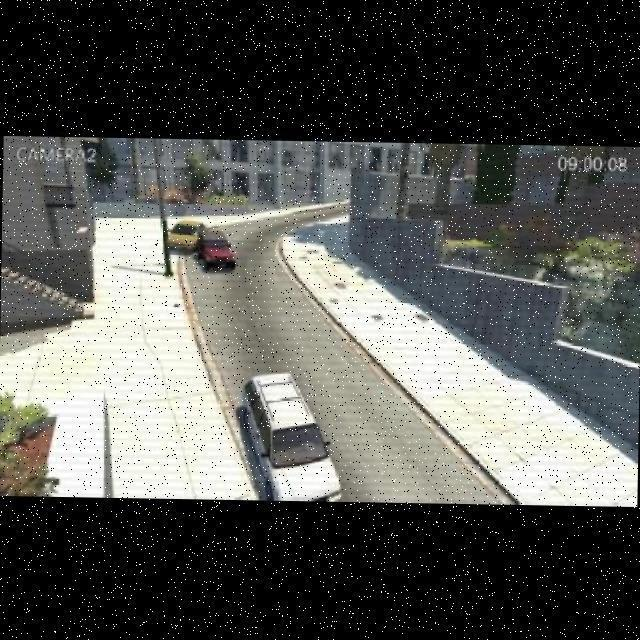accident: (170, 218, 225, 257)
